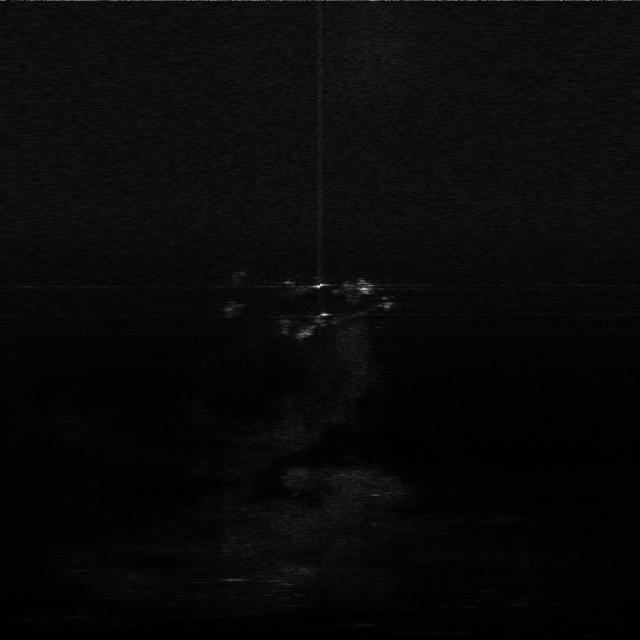rov: (351, 278, 377, 295)
